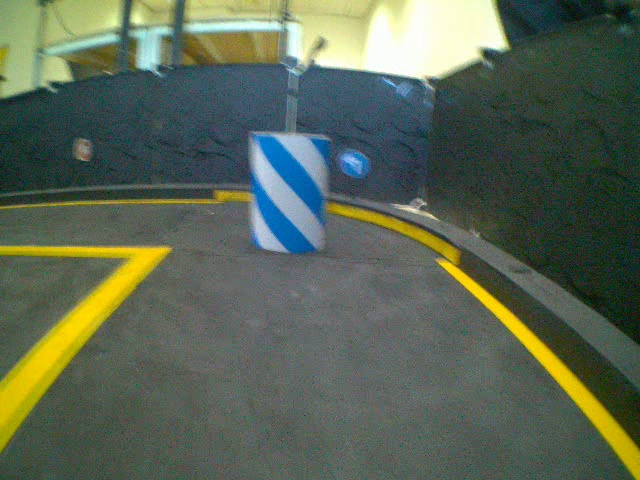bucket: (247, 129, 329, 254)
